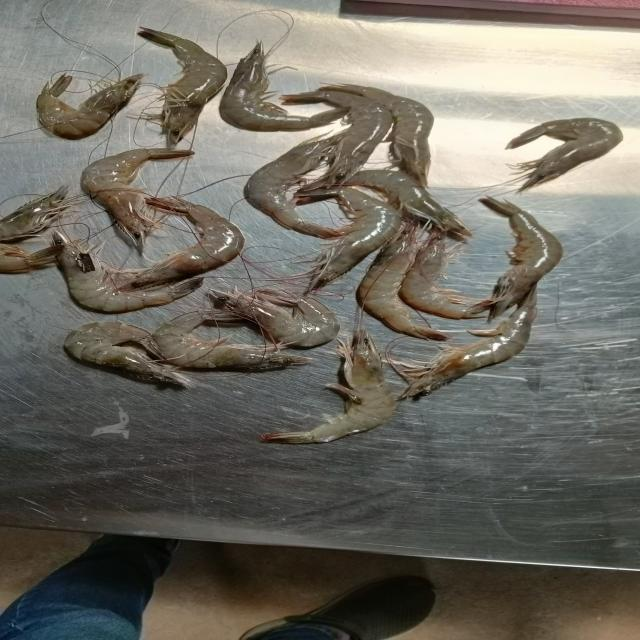shrimp: (387, 290, 536, 399), (261, 329, 396, 444), (53, 232, 204, 312), (319, 84, 434, 186), (117, 198, 243, 290), (219, 42, 348, 131), (471, 198, 562, 320), (137, 28, 228, 148), (281, 91, 392, 189), (82, 149, 195, 245), (356, 224, 449, 340), (299, 188, 401, 290), (243, 134, 341, 239), (343, 170, 471, 240), (505, 118, 624, 192), (153, 312, 310, 368), (64, 321, 186, 385), (210, 289, 339, 348), (398, 231, 483, 319), (212, 290, 339, 348), (35, 74, 144, 140)
